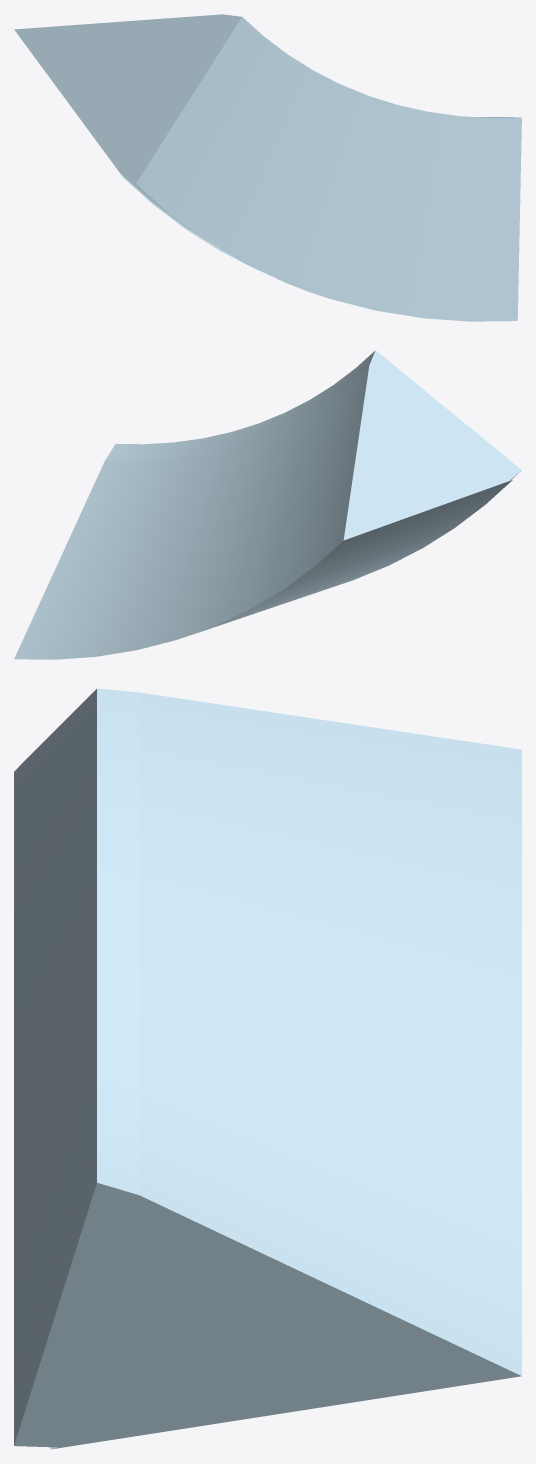
Rendered from Sub_2_Cell_2_2.gltf.
The picture shows the model from 3 angles, top to bottom: view 1: azimuth 30°, elevation 25°; view 2: azimuth 150°, elevation 25°; view 3: azimuth 270°, elevation 25°; orthographic projection. The views are drawn at different scales.
Visible parts, largest first — view 1: Sub_2_Cell_2_2; view 2: Sub_2_Cell_2_2; view 3: Sub_2_Cell_2_2.
Part boxes in pixels (left/top/right/bottom): Sub_2_Cell_2_2: left=14, top=14, right=521, bottom=321; Sub_2_Cell_2_2: left=14, top=350, right=521, bottom=659; Sub_2_Cell_2_2: left=14, top=688, right=521, bottom=1449.
Bounding box in the file's own units: 0.0903 × 0.0728 × 0.0594.
